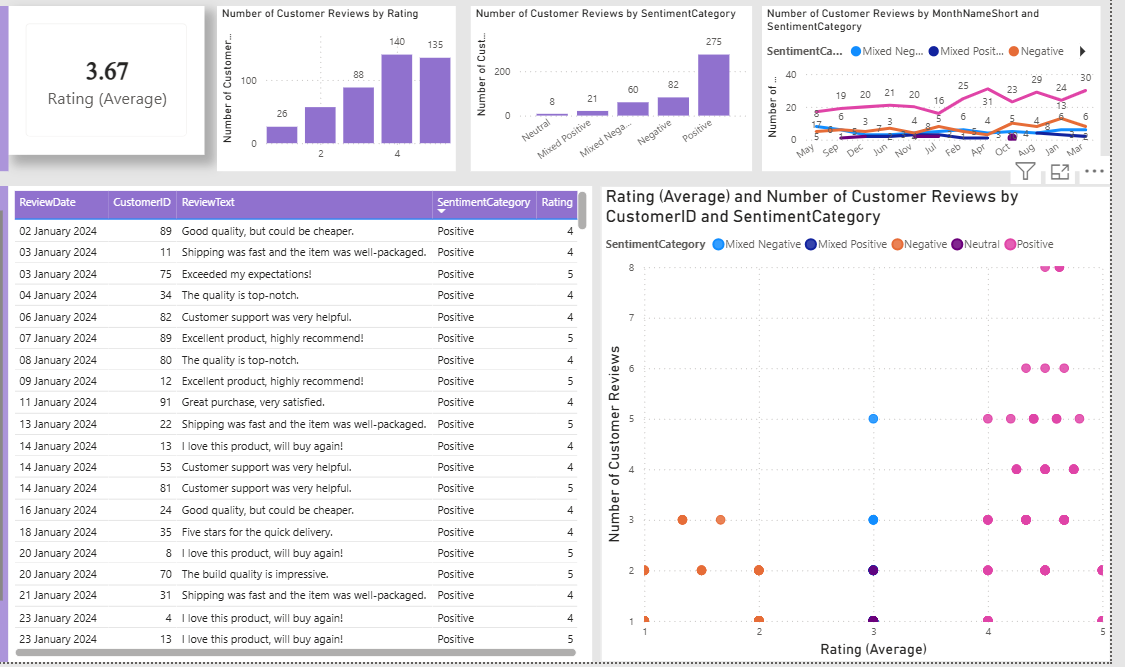

Layout of this report page (visuals, bound fields, positions):
{"tool":"powerbi","page":{"name":"Customer Review Details","canvas":[1280,720],"ordinal":3},"visuals":[{"type":"slicer","fields":{"Values":["Calendar.Year"]},"box":[309.1,0,313,64.9],"z":0},{"type":"textbox","box":[3.9,2.6,293.5,62.3],"z":1000},{"type":"slicer","fields":{"Values":["dim_products.ProductName"]},"box":[1.2,254.3,200.5,465.9],"z":2000},{"type":"slicer","fields":{"Values":["Calendar.MonthNameShort"]},"box":[621.6,0,658.7,64.5],"z":3000},{"type":"cardVisual","fields":{"Data":["_Calculations.Rating (Average)"]},"box":[201.3,77.9,192.2,145.5],"z":4000},{"type":"clusteredColumnChart","fields":{"Y":["_Calculations.Number of Customer Reviews"],"Category":["fact_customer_reviews_with_sentiment.Rating"]},"box":[406.5,77.9,233.8,145.5],"z":5000},{"type":"clusteredColumnChart","fields":{"Y":["_Calculations.Number of Customer Reviews"],"Category":["fact_customer_reviews_with_sentiment.SentimentCategory"]},"box":[649.4,77.9,280.5,161],"z":6000},{"type":"lineChart","fields":{"Category":["Calendar.MonthNameShort"],"Y":["_Calculations.Number of Customer Reviews"],"Series":["fact_customer_reviews_with_sentiment.SentimentCategory"]},"box":[939,77.9,328.6,176.6],"z":7000},{"type":"tableEx","fields":{"Values":["fact_customer_reviews_with_sentiment.ReviewDate","fact_customer_reviews_with_sentiment.CustomerID","fact_customer_reviews_with_sentiment.ReviewText","fact_customer_reviews_with_sentiment.SentimentCategory","fact_customer_reviews_with_sentiment.Rating"]},"box":[201.3,254.5,626,439],"z":8000},{"type":"scatterChart","fields":{"X":["_Calculations.Rating (Average)"],"Y":["_Calculations.Number of Customer Reviews"],"Series":["fact_customer_reviews_with_sentiment.SentimentCategory"],"Category":["fact_customer_reviews_with_sentiment.CustomerID"]},"box":[814.3,259.7,466.2,427.3],"z":9000},{"type":"slicer","fields":{"Values":["fact_customer_reviews_with_sentiment.SentimentCategory"]},"box":[1.2,78.3,200.5,161.4],"z":10000}]}

Visuals, with their boxes on the page's 1280x720 design canvas (x1, y1, x2, y2). These are canvas units, not pixel positions in the 1125x667 screenshot, which may show the page scaled, cropped or inside an application window:
slicer - Calendar.Year: x1=309, y1=0, x2=622, y2=65
textbox: x1=4, y1=3, x2=297, y2=65
slicer - dim_products.ProductName: x1=1, y1=254, x2=202, y2=720
slicer - Calendar.MonthNameShort: x1=622, y1=0, x2=1280, y2=64
cardVisual - _Calculations.Rating (Average): x1=201, y1=78, x2=394, y2=223
clusteredColumnChart - _Calculations.Number of Customer Reviews x fact_customer_reviews_with_sentiment.Rating: x1=406, y1=78, x2=640, y2=223
clusteredColumnChart - _Calculations.Number of Customer Reviews x fact_customer_reviews_with_sentiment.SentimentCategory: x1=649, y1=78, x2=930, y2=239
lineChart - Calendar.MonthNameShort x _Calculations.Number of Customer Reviews: x1=939, y1=78, x2=1268, y2=254
tableEx - fact_customer_reviews_with_sentiment.ReviewDate x fact_customer_reviews_with_sentiment.CustomerID: x1=201, y1=254, x2=827, y2=694
scatterChart - _Calculations.Rating (Average) x _Calculations.Number of Customer Reviews: x1=814, y1=260, x2=1280, y2=687
slicer - fact_customer_reviews_with_sentiment.SentimentCategory: x1=1, y1=78, x2=202, y2=240
